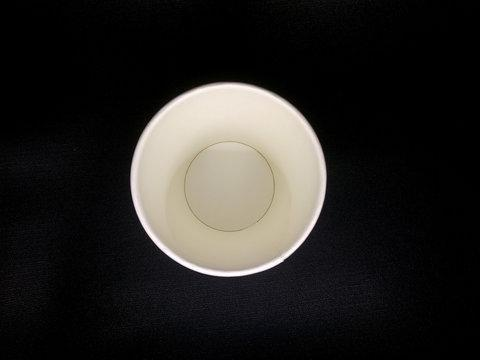cup-disposable: (122, 77, 334, 287)
